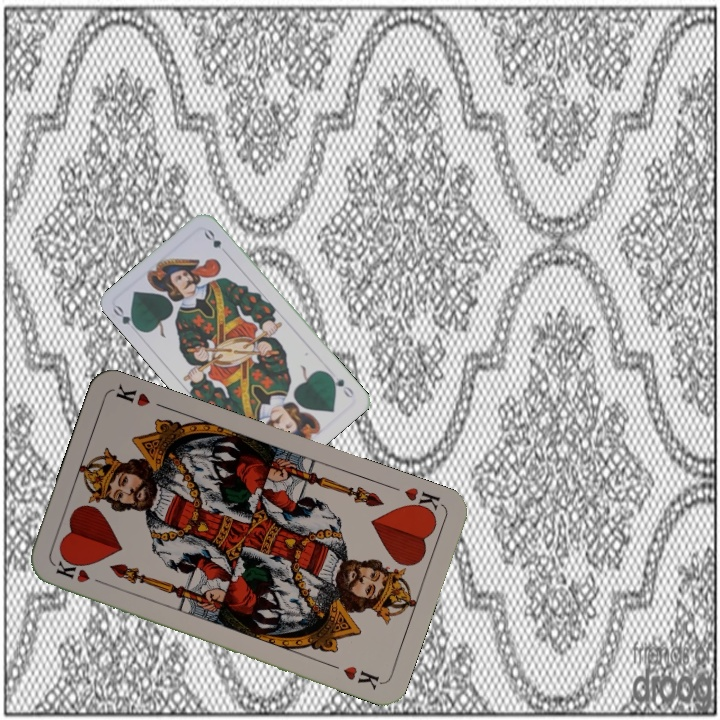GO: (109, 302, 143, 334), (324, 369, 357, 400)
HK: (52, 556, 109, 588), (400, 483, 443, 519)
